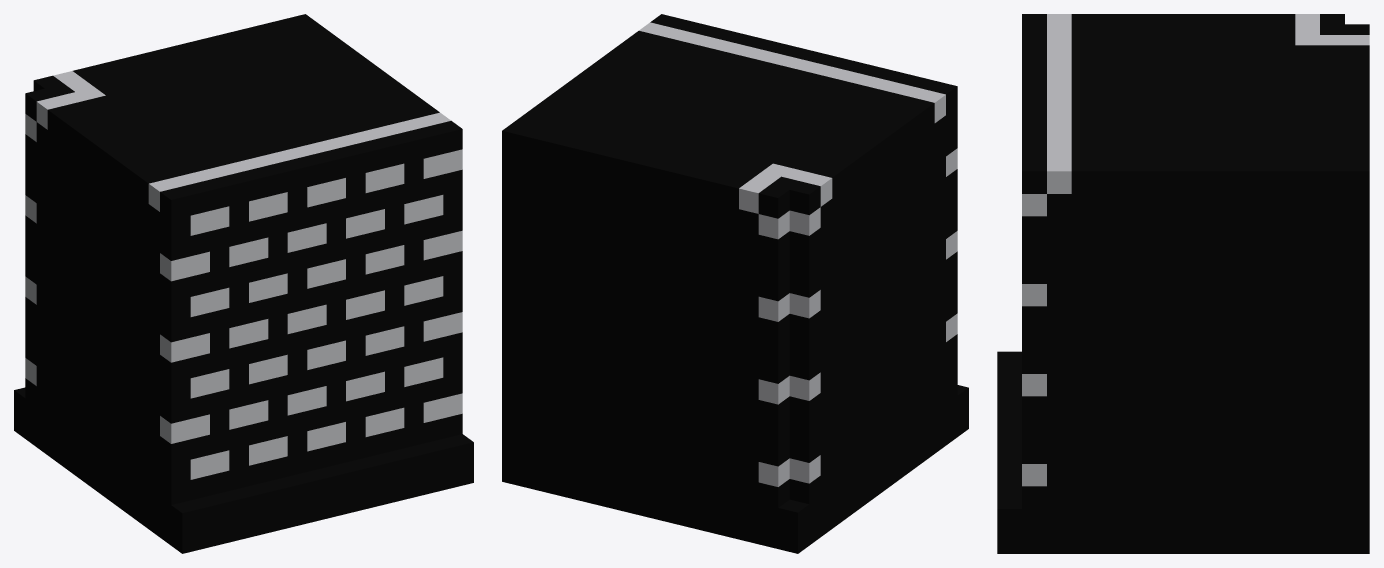
The model's file is dungeon_d_a_outer_wall_segment_c.obj.
3 views of the same model, side by side, from view 1: azimuth 30°, elevation 25°; view 2: azimuth 150°, elevation 25°; view 3: azimuth 270°, elevation 25° (orthographic). The views are drawn at different scales.
Bounding box in the file's own units: 1.5 × 1.7 × 1.5.
Materials: 1 (1 with a texture image).
